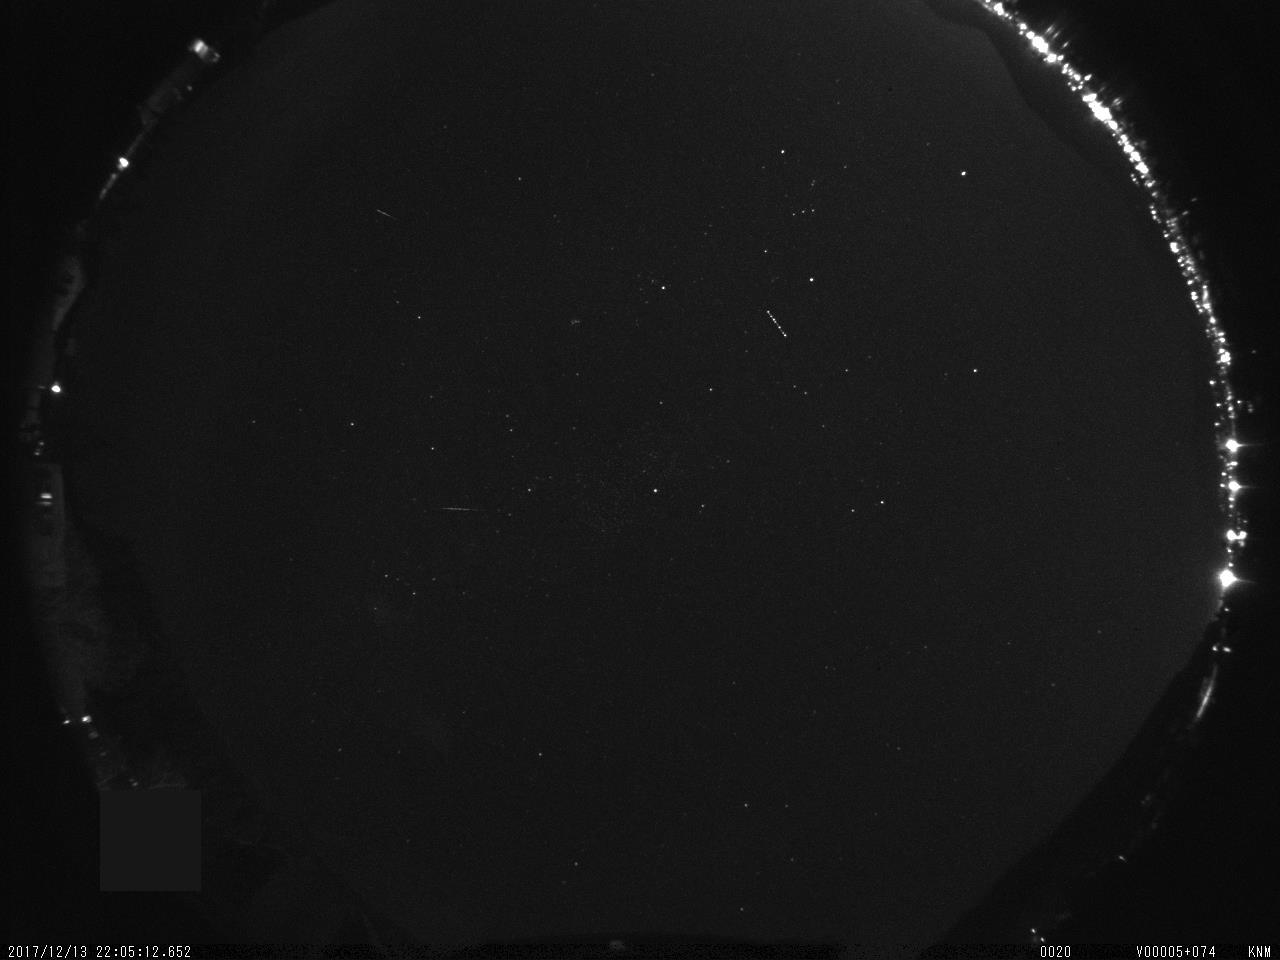meteor: (414, 485, 495, 524)
